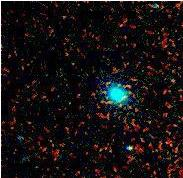star: (114, 128, 144, 158)
